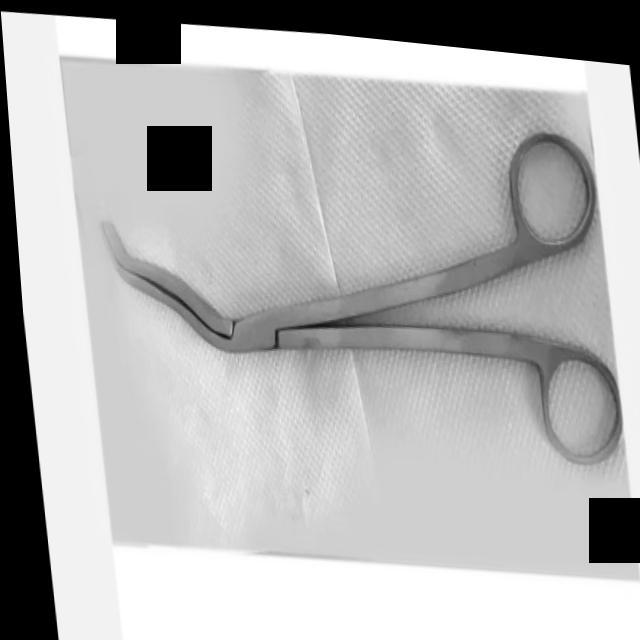Cheatle Forceps: (82, 77, 622, 476)
